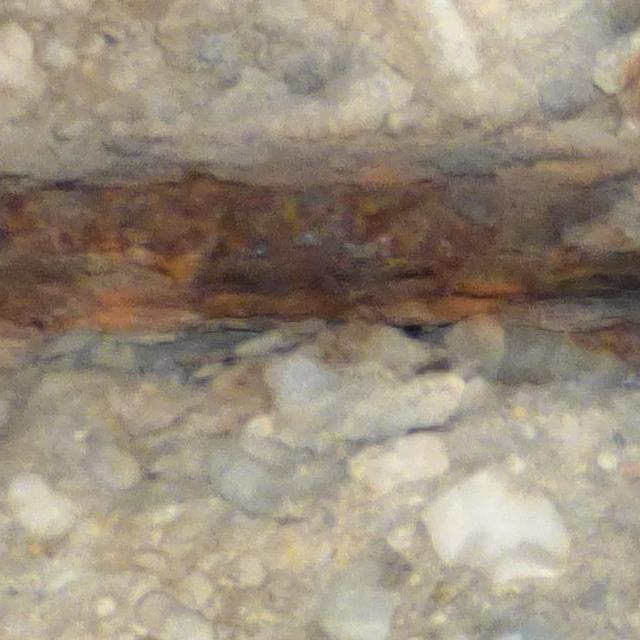Rust: (4, 161, 632, 343)
